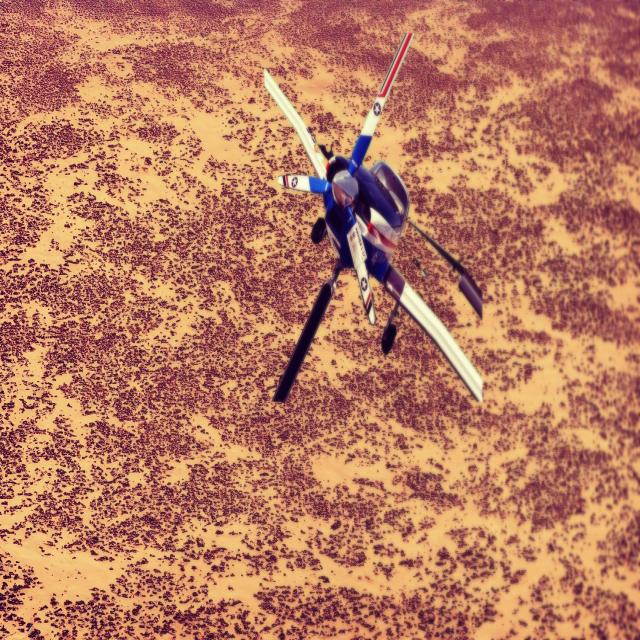airplane: (263, 30, 484, 406)
